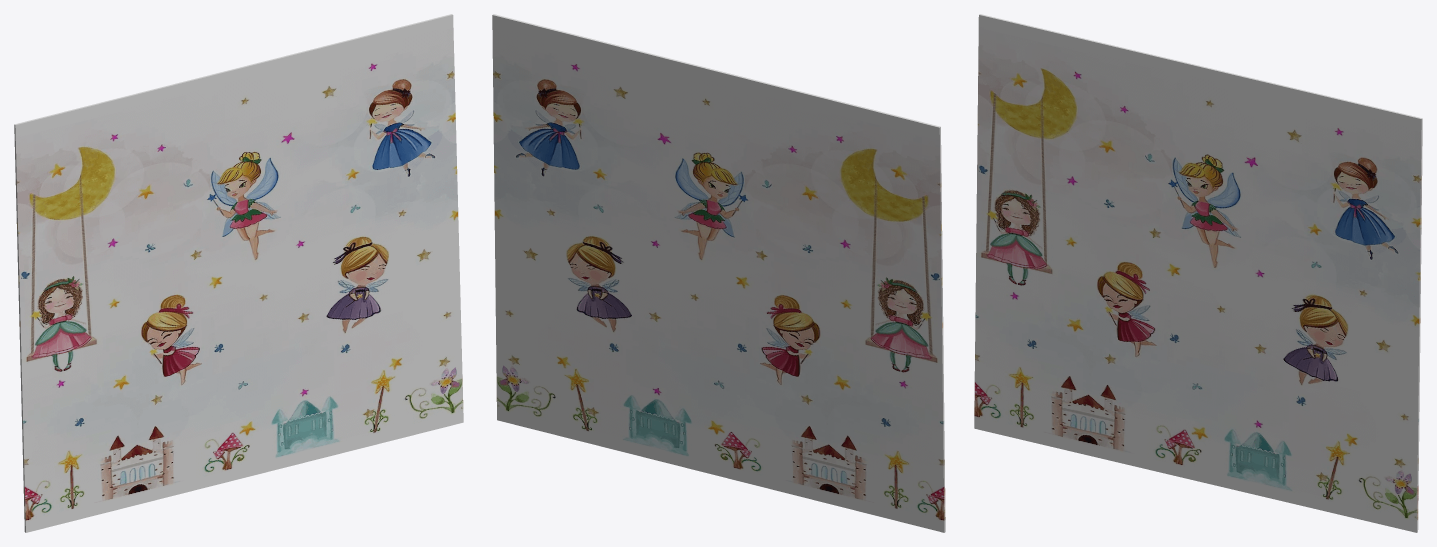
3 views of the same model, side by side, from view 1: azimuth 30°, elevation 25°; view 2: azimuth 150°, elevation 25°; view 3: azimuth 330°, elevation 25° (orthographic). The views are drawn at different scales.
Parts seen in each view (by area): view 1: Mesh_0.003; view 2: Mesh_0.003; view 3: Mesh_0.003.
Boxes of the visible parts, <box> form: Mesh_0.003: <box>14,14,463,532</box>; Mesh_0.003: <box>492,14,945,532</box>; Mesh_0.003: <box>974,14,1422,532</box>.
Bounding box in the file's own units: 2.29 × 2.02 × 0.0796.
Materials: 1 (1 with a texture image).
